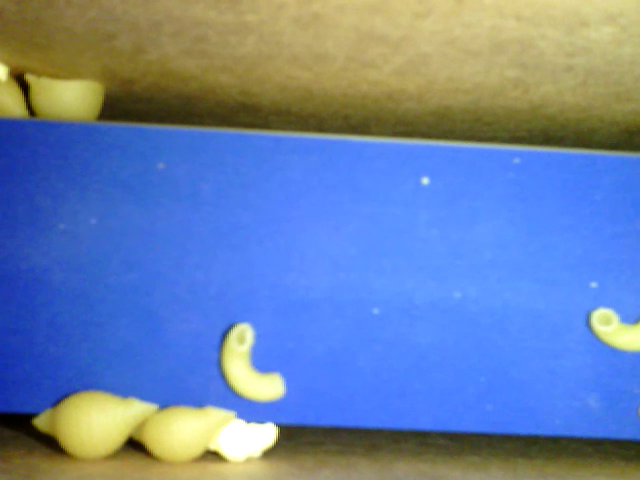elbow: (217, 318, 285, 407), (590, 306, 638, 354)
shell: (30, 387, 162, 459), (128, 403, 233, 467), (24, 75, 105, 126)
